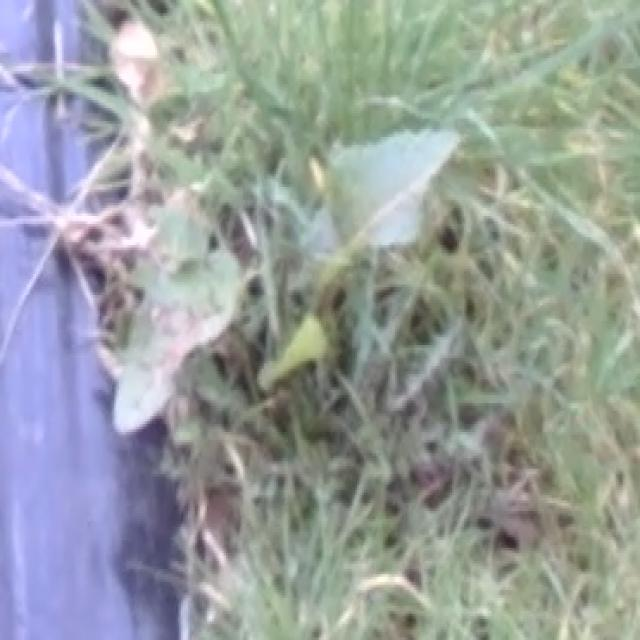organic waste: (108, 119, 469, 473)
